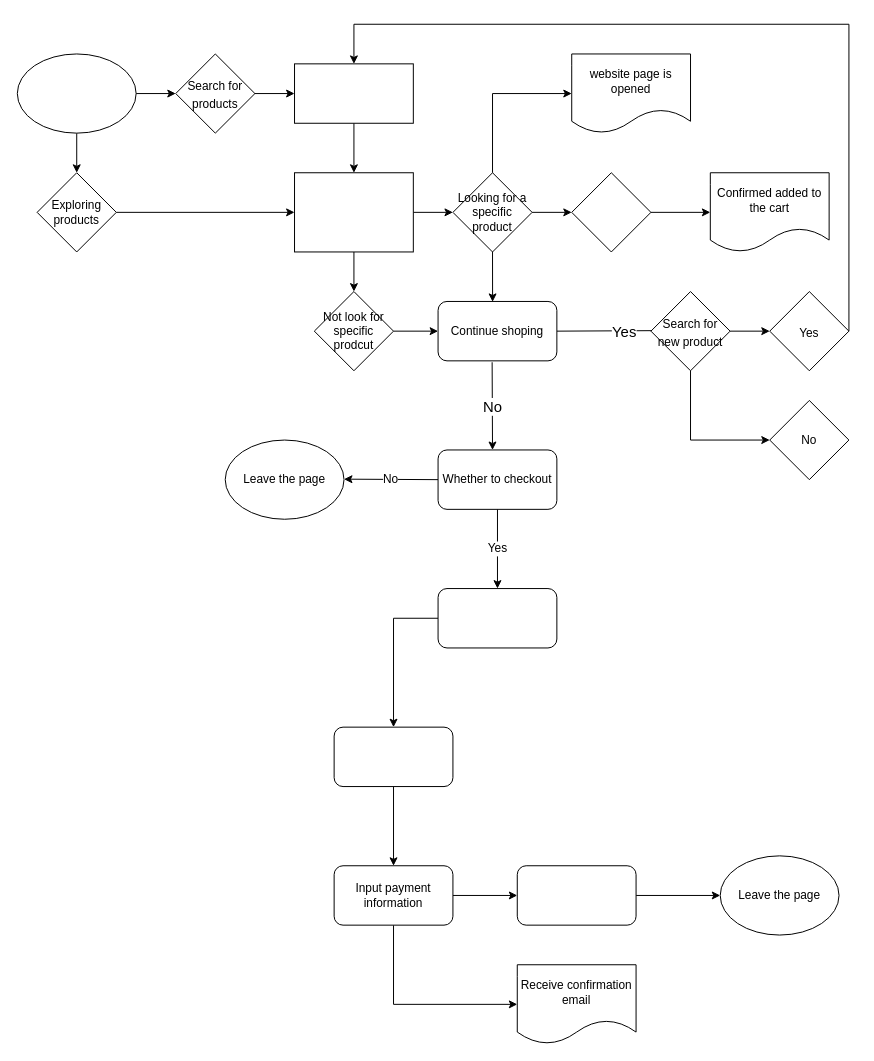
This 874x1061 diagram has some shape labels left out. Here are the shapes that lost their labels. From the top down, the box of each, then its label:
(16, 53, 136, 133): Start website
(294, 63, 413, 123): Provide input to search
(294, 172, 413, 252): Viewing for a specific product
(571, 172, 651, 252): Add to the cart
(437, 588, 557, 648): View chart
(333, 726, 453, 787): Payment
(516, 865, 636, 925): Order confirmation
